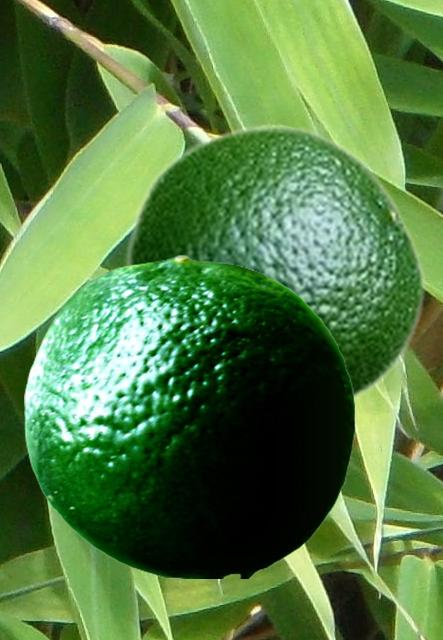calamansi: (24, 254, 354, 577), (123, 123, 426, 405)
